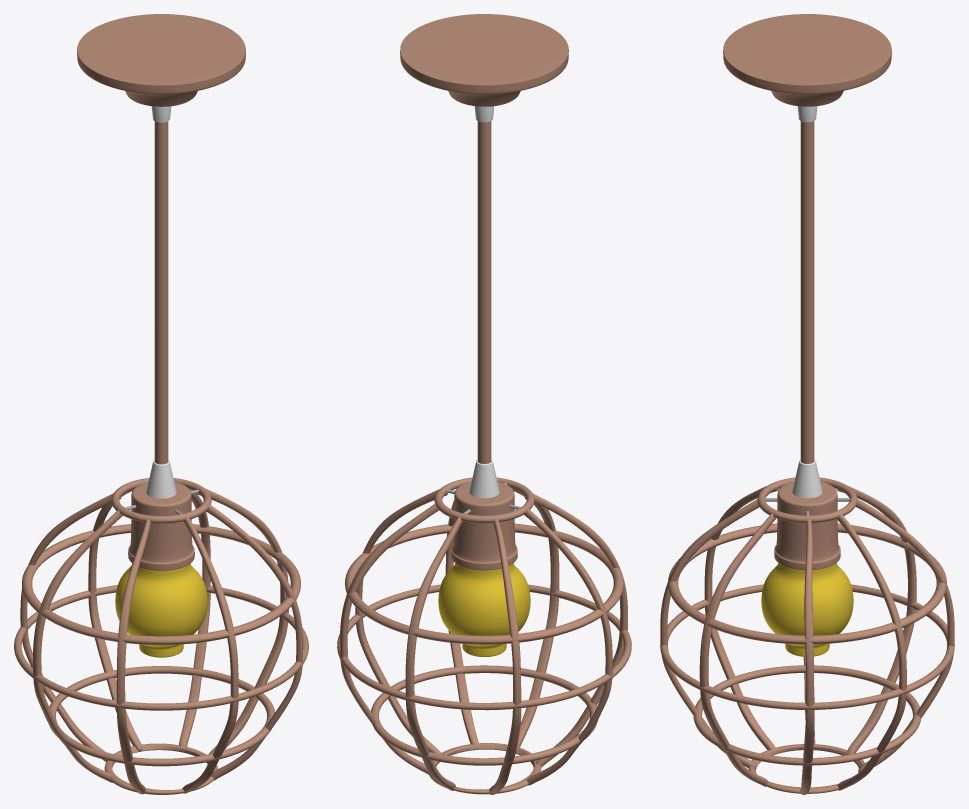
Rendered from Lamp_04.fbx.
3 renders of one model, left to right at view 1: azimuth 30°, elevation 25°; view 2: azimuth 150°, elevation 25°; view 3: azimuth 270°, elevation 25°, orthographic.
Visible parts, largest first — view 1: pCylinder8, pCylinder1, pCylinder6, pCylinder2, pCylinder5, pCylinder13, pCylinder19, pCylinder12, pCylinder18, pCylinder10, pCylinder16, pCylinder9 (+2 smaller); view 2: pCylinder8, pCylinder1, pCylinder6, pCylinder2, pCylinder5, pCylinder9, pCylinder13, pCylinder16, pCylinder17, pCylinder12, pCylinder19, pCylinder10 (+2 smaller); view 3: pCylinder8, pCylinder1, pCylinder6, pCylinder2, pCylinder5, pCylinder18, pCylinder17, pCylinder10, pCylinder16, pCylinder9, pCylinder12, pCylinder19 (+1 smaller).
Boxes of the visible parts, <box> form: pCylinder8: <box>14,478,308,794</box>; pCylinder1: <box>77,14,245,106</box>; pCylinder6: <box>115,563,207,657</box>; pCylinder2: <box>154,121,168,464</box>; pCylinder5: <box>128,482,194,570</box>; pCylinder13: <box>33,509,122,782</box>; pCylinder19: <box>116,519,151,794</box>; pCylinder12: <box>182,517,238,793</box>; pCylinder18: <box>206,504,303,780</box>; pCylinder10: <box>196,488,288,753</box>; pCylinder16: <box>20,493,121,761</box>; pCylinder9: <box>88,489,142,751</box>; pCylinder8: <box>337,477,631,794</box>; pCylinder1: <box>400,14,568,106</box>; pCylinder6: <box>438,563,530,656</box>; pCylinder2: <box>477,121,491,463</box>; pCylinder5: <box>451,481,517,570</box>; pCylinder9: <box>405,516,462,790</box>; pCylinder13: <box>524,508,612,785</box>; pCylinder16: <box>489,519,521,794</box>; pCylinder17: <box>340,503,438,774</box>; pCylinder12: <box>512,489,559,751</box>; pCylinder19: <box>524,493,627,767</box>; pCylinder10: <box>355,489,447,754</box>; pCylinder8: <box>660,477,954,793</box>; pCylinder1: <box>723,14,891,106</box>; pCylinder6: <box>761,563,853,656</box>; pCylinder2: <box>800,121,814,463</box>; pCylinder5: <box>774,481,840,569</box>; pCylinder18: <box>699,513,775,786</box>; pCylinder17: <box>837,514,906,790</box>; pCylinder10: <box>800,519,814,794</box>; pCylinder16: <box>836,486,916,753</box>; pCylinder9: <box>855,498,954,772</box>; pCylinder12: <box>660,499,759,768</box>; pCylinder19: <box>704,486,779,749</box>.
Size of the model in its own units: 0.5964 by 1.61 by 0.5964.
